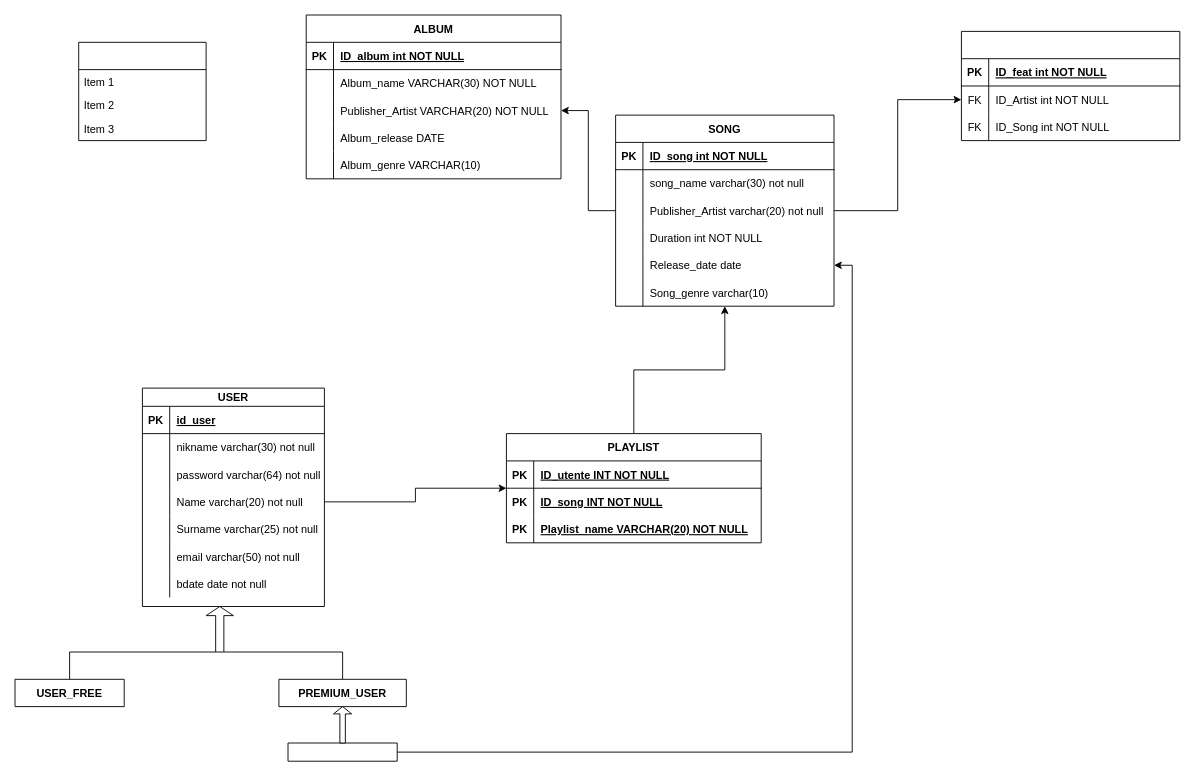
This 1195x776 diagram has some shape labels left out. Each missing label, with the box of its shape:
FEATURING: (961, 30, 1180, 141)
List: (78, 41, 206, 141)
PUBBLISHER: (287, 742, 397, 761)
